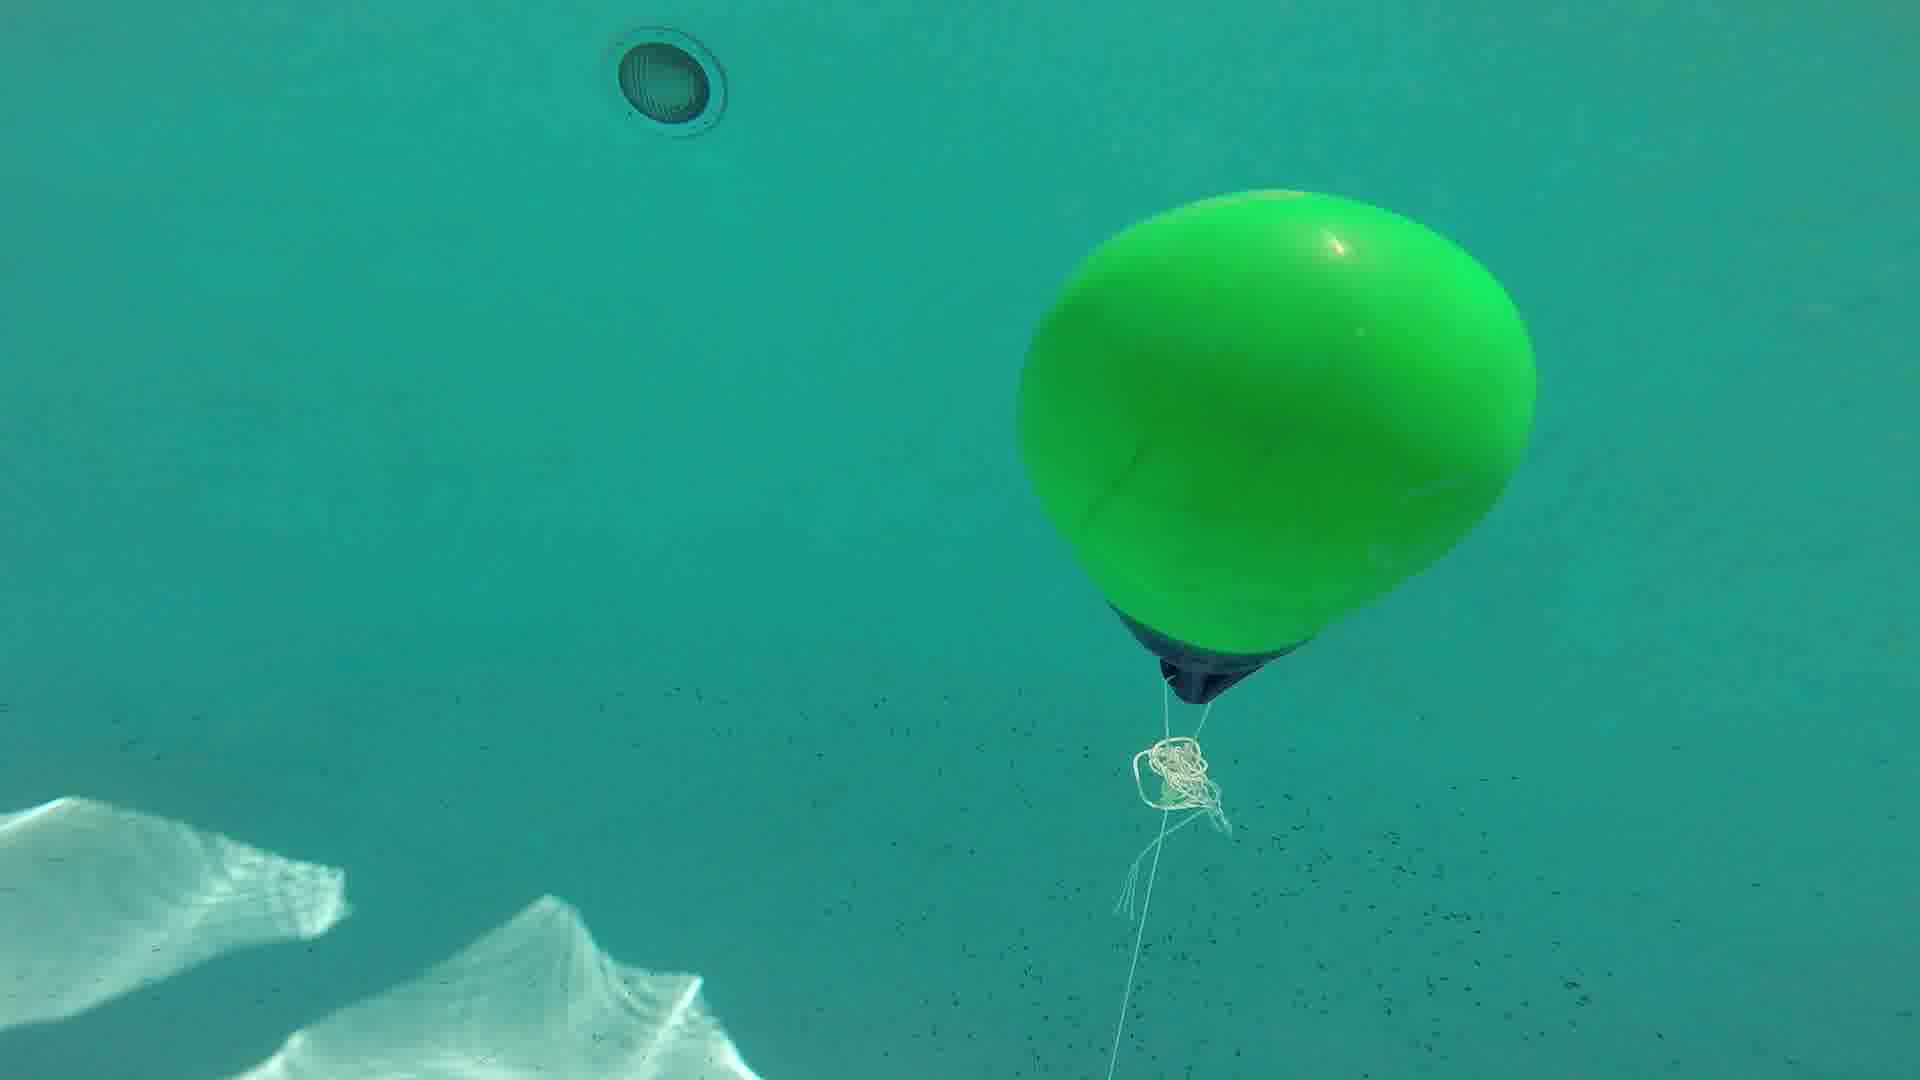yellow_buoy: (1009, 186, 1542, 709)
